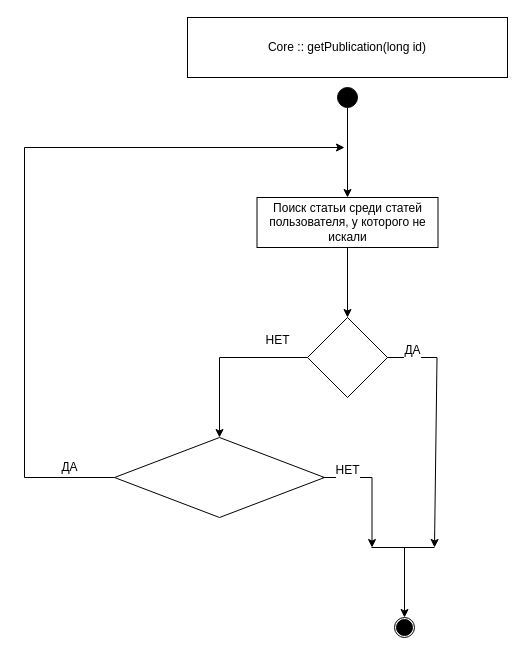
Image size: 525x655. Some labels were removed from this diagram. Each missing label, with the centre of its shape:
"Нашли ?" belongs at (x=347, y=357).
"Остались не проверенные поьзователи" belongs at (x=219, y=477).
